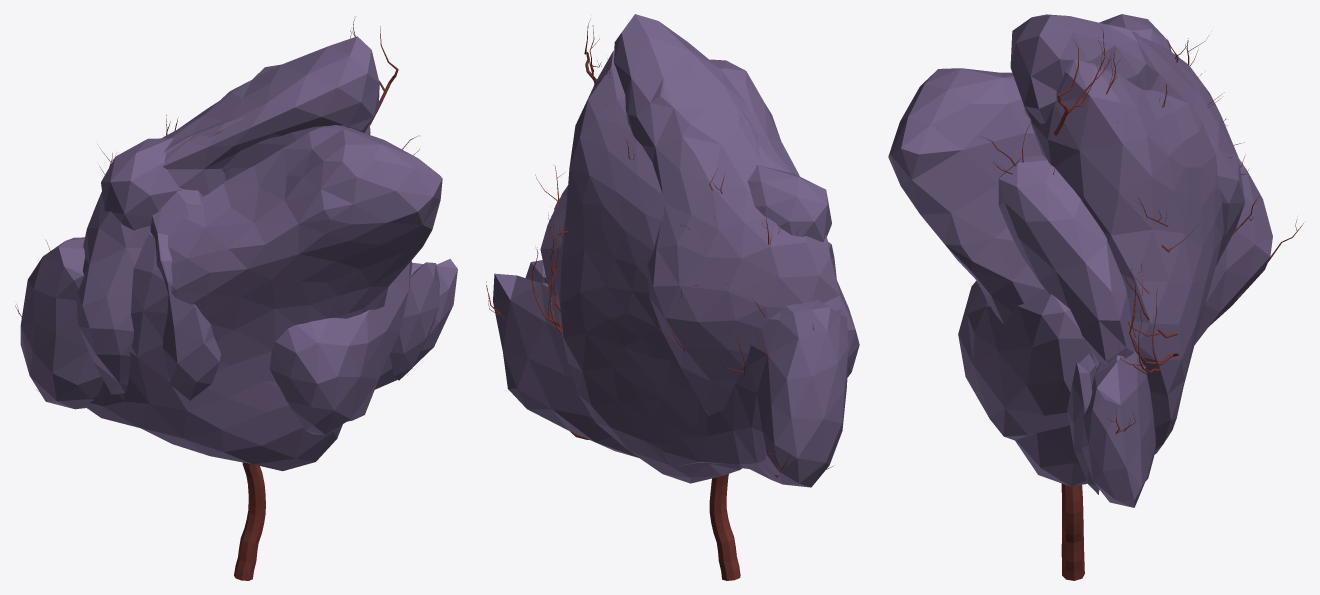
File: tree-2.fbx
The picture shows the model from 3 angles, left to right: view 1: azimuth 30°, elevation 25°; view 2: azimuth 150°, elevation 25°; view 3: azimuth 270°, elevation 25°; orthographic projection. The views are drawn at different scales.
Parts seen in each view (by area): view 1: tree1.003; view 2: tree1.003; view 3: tree1.003.
Part boxes in pixels (box(x1,y1,x2,y2)): tree1.003: box(15, 17, 457, 580); tree1.003: box(486, 14, 859, 580); tree1.003: box(888, 14, 1303, 580).
Size of the model in its own units: 511 by 662 by 402.
